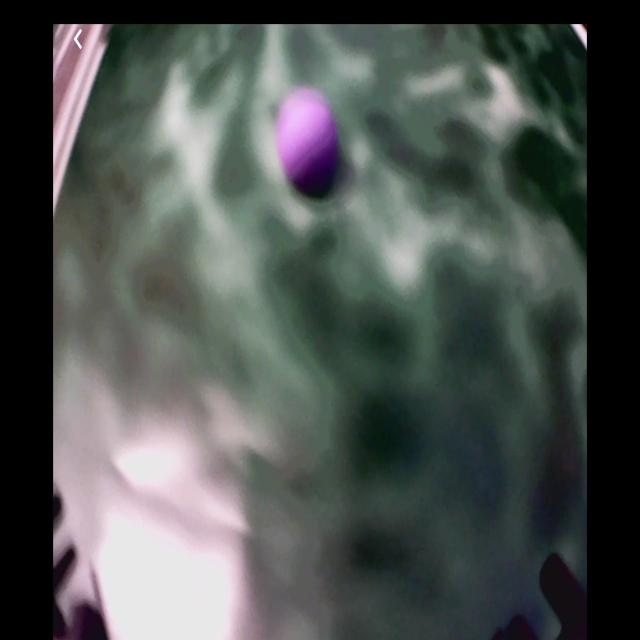ball: (280, 91, 337, 188)
